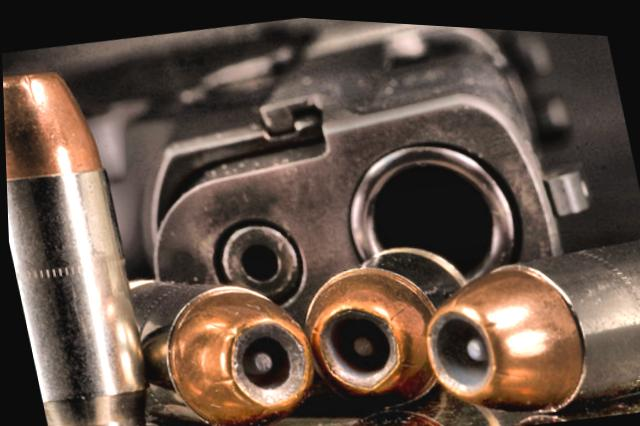pistol: (0, 0, 610, 426)
